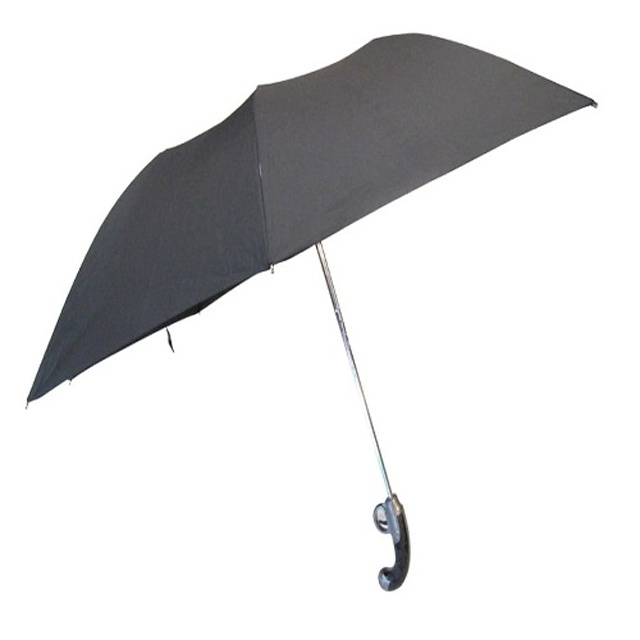umbrella: (17, 23, 597, 597)
